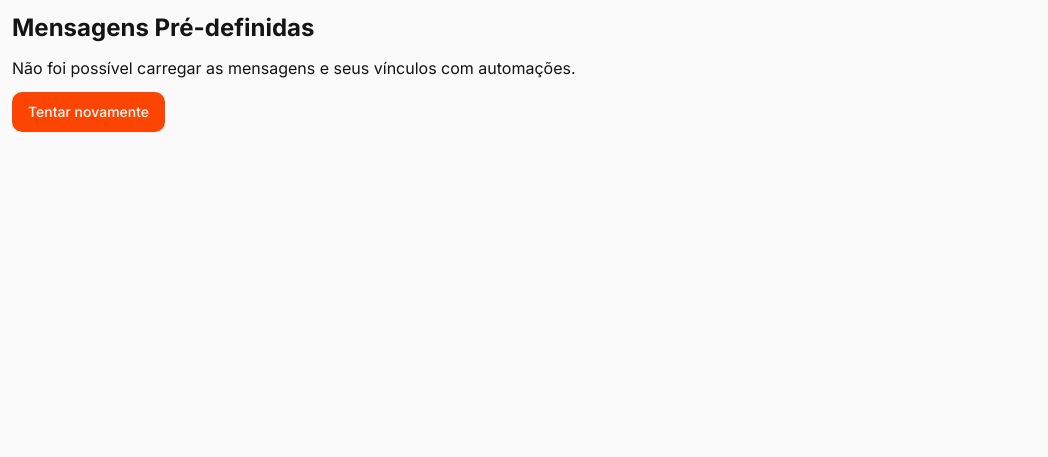
predefined messages screen reliability › offers retry for a load error rather than reporting an empty catalog
expect the message shows "Não foi possível carregar": met, box 12,58 -> 576,78
Click the button "Tentar novamente".
click(89, 112)  # box 12,92 -> 165,132
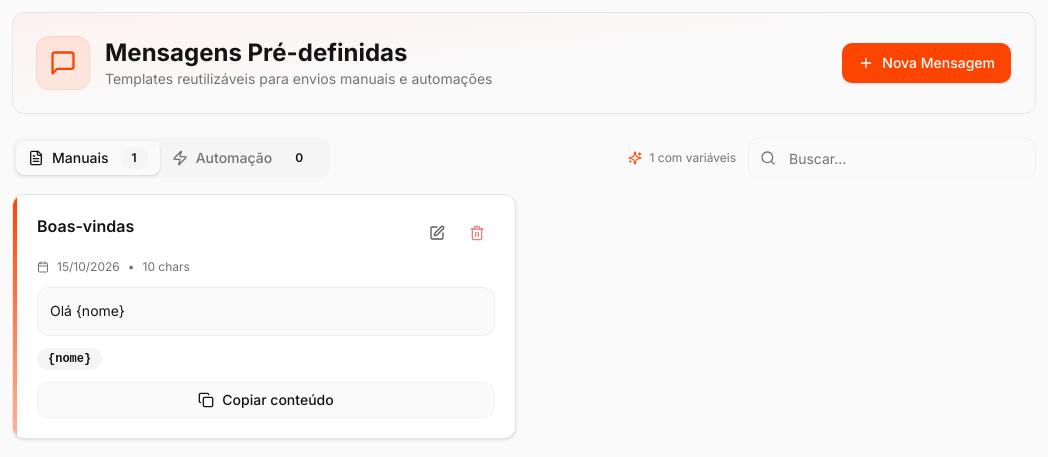
expect the heading "Boas-vindas" is shown: met, box 37,216 -> 134,236
